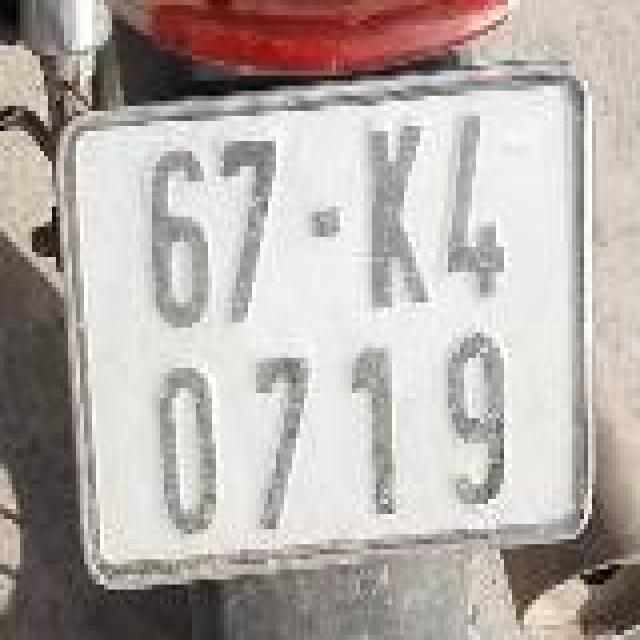0: (142, 345, 242, 542)
1: (338, 333, 406, 519)
4: (436, 93, 508, 305)
6: (140, 131, 216, 328)
7: (250, 343, 318, 544), (212, 119, 276, 330)
9: (430, 328, 502, 524)
K: (352, 98, 436, 315)
